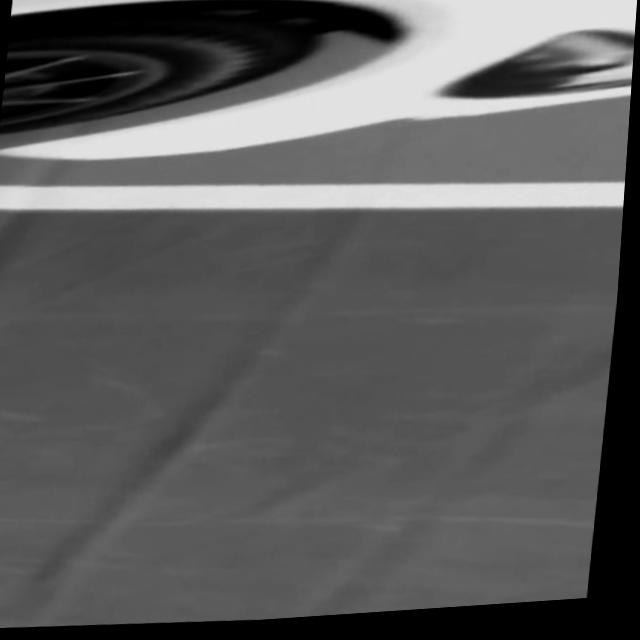left: (0, 180, 625, 209)
